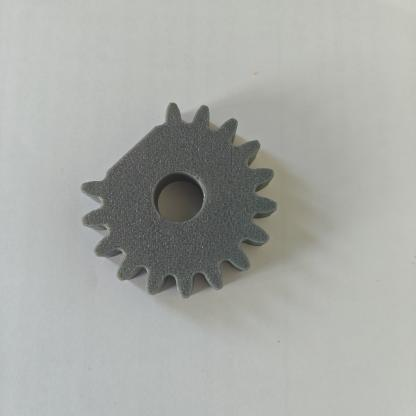defect: (73, 98, 199, 190)
gear: (60, 91, 287, 316)
